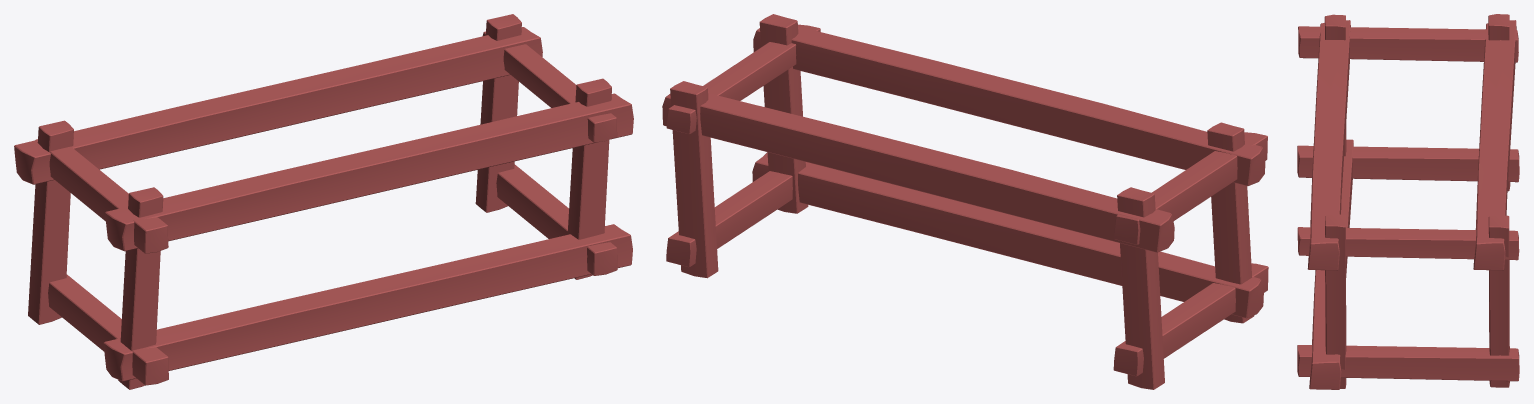
Rendered from Beam_Structure_09A_Lod0.fbx.
The picture shows the model from 3 angles, left to right: view 1: azimuth 30°, elevation 25°; view 2: azimuth 150°, elevation 25°; view 3: azimuth 270°, elevation 25°; orthographic projection. The views are drawn at different scales.
Parts seen in each view (by area): view 1: Beam_Structure_09A_Lod0; view 2: Beam_Structure_09A_Lod0; view 3: Beam_Structure_09A_Lod0.
Boxes of the visible parts, left/top/right/bottom form: Beam_Structure_09A_Lod0: left=14, top=14, right=633, bottom=389; Beam_Structure_09A_Lod0: left=662, top=14, right=1268, bottom=389; Beam_Structure_09A_Lod0: left=1297, top=14, right=1519, bottom=389.
Size of the model in its own units: 320 by 114 by 134.
